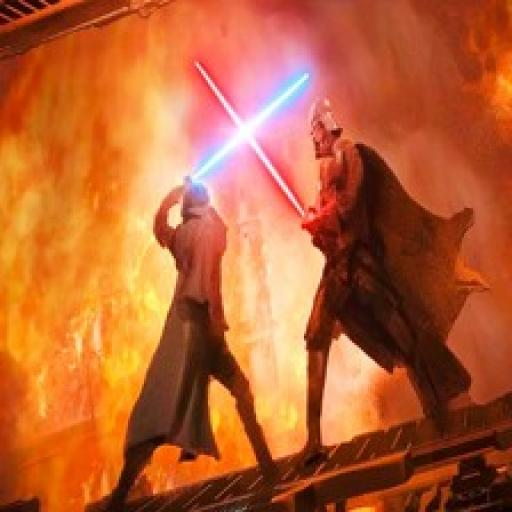human: (291, 88, 474, 449), (109, 175, 277, 512)
lightsaber: (181, 71, 308, 192)
sith saber: (188, 56, 328, 234)
